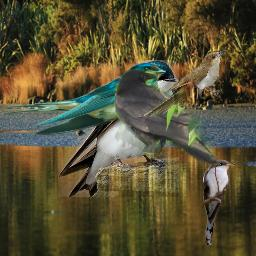Crow: (114, 69, 220, 165)
Cuckoo: (143, 50, 227, 117), (202, 159, 235, 245)
Swallow: (58, 60, 179, 197), (2, 62, 166, 136)
